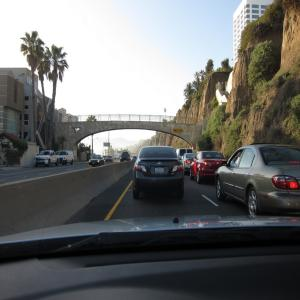Vehicle-registration-plate: (156, 166, 165, 174)
